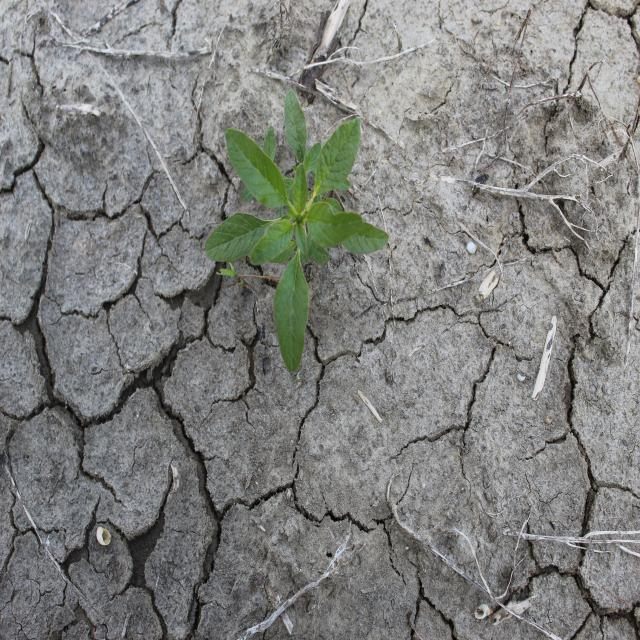Waterhemp: (204, 87, 391, 377)
